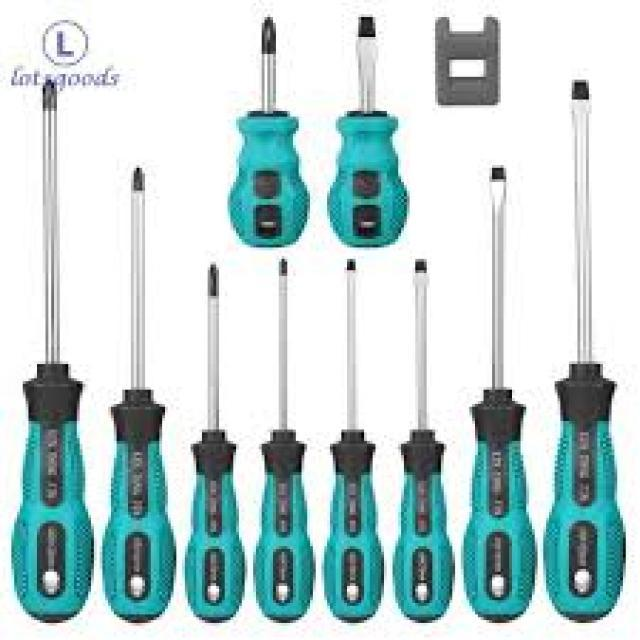screwdriver: (4, 74, 98, 626), (538, 73, 624, 634), (98, 164, 181, 630), (459, 159, 539, 626), (386, 255, 456, 628), (248, 252, 318, 624), (180, 255, 250, 624), (320, 256, 388, 626), (324, 10, 412, 255), (224, 12, 310, 250)
